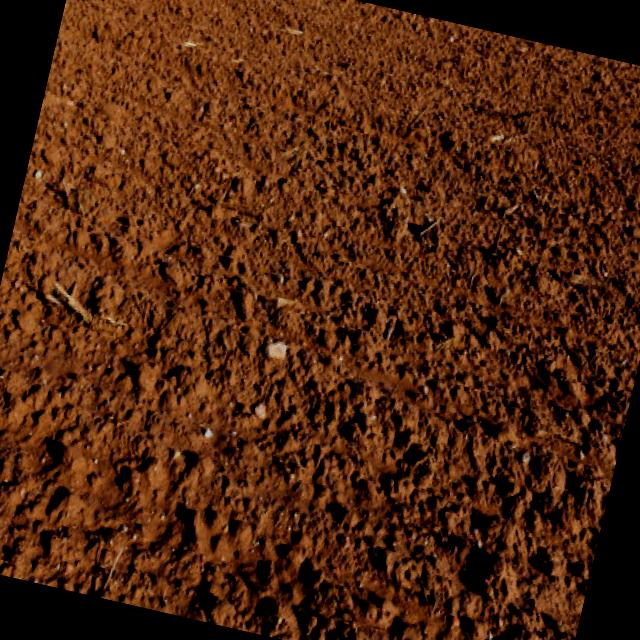suelo_seco: (68, 37, 589, 584)
